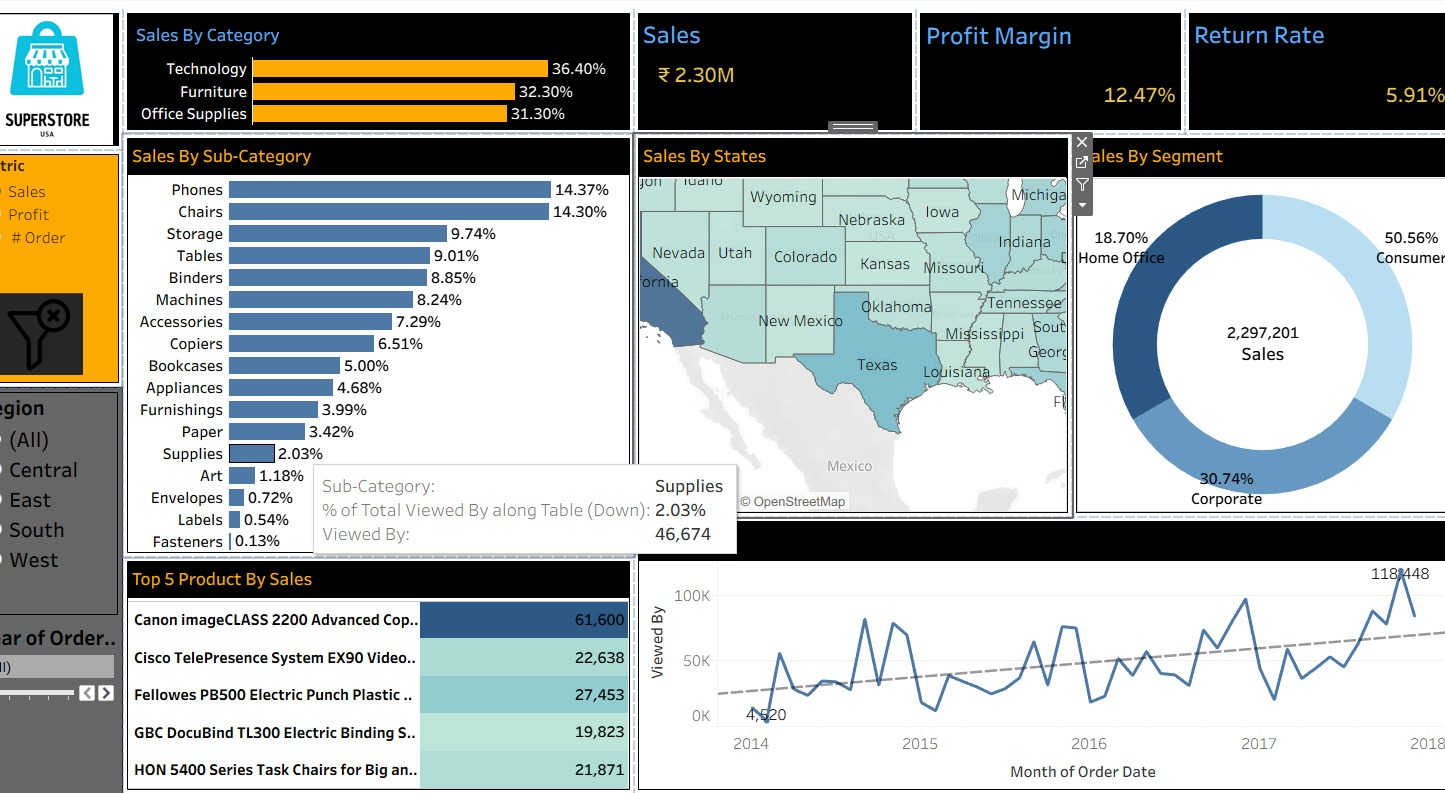

This screenshot's page, from the dashboard's own definition file:
{"tool":"tableau","page":{"name":"Dashboard 1","canvas":[1000,1000],"units":"permille","ordinal":0},"visuals":[{"type":"image","param":"Image/Screenshot 2025-10-11 184846.png","box":[4.8,10,90.6,176]},{"type":"worksheet","title":"(Category)","mark":"Automatic","rows":["Category"],"cols":["Calculation_412923853747302403"],"box":[95.4,10,308.2,156.1]},{"type":"worksheet","title":"SPERSTORE(Metric)","mark":"Automatic","box":[403.7,10,170.1,156.1]},{"type":"worksheet","title":"(Profit Margin)","mark":"Automatic","box":[573.8,10,162.4,156.1]},{"type":"worksheet","title":"(Return Rate)","mark":"Automatic","box":[736.2,10,162.4,156.1]},{"type":"legend","title":"(Segment)","param":"[federated.1xgyz0s0jadrhu13gu8tb0y8h5am].[none:Segment:nk]","box":[898.6,10,96.6,112.4]},{"type":"worksheet","title":"(Sub-Category) ","mark":"Automatic","rows":["Sub-Category"],"cols":["Calculation_412923853747302403"],"box":[95.4,166,308.2,528.1]},{"type":"worksheet","title":"(Map)","mark":"Multipolygon","box":[403.7,166,264.2,478.2]},{"type":"worksheet","title":"(Segment)","mark":"Pie","rows":["Calculation_412923853765455888","Calculation_412923853765468178"],"box":[667.9,166,230.8,478.2]},{"type":"parameter","param":"[Parameters].[Parameter 2]","box":[4.8,186,90.6,295.9]},{"type":"dashboard-object","box":[6,364.5,79.1,102.4]},{"type":"filter","title":"SPERSTORE(Metric)","param":"[federated.1xgyz0s0jadrhu13gu8tb0y8h5am].[none:Region:nk]","box":[5.4,483.2,89.4,288.4]},{"type":"worksheet","title":"(Trend)","mark":"Automatic","rows":["Calculation_412923853747302403"],"cols":["Order Date"],"box":[403.7,644.2,494.9,345.8]},{"type":"worksheet","title":"( Product )","mark":"Square","rows":["Product Name"],"box":[95.4,694.1,308.2,295.9]},{"type":"filter","title":"SPERSTORE(Metric)","param":"[federated.1xgyz0s0jadrhu13gu8tb0y8h5am].[yr:Order Date:ok]","box":[5.4,771.5,89.4,118.6]}]}

Visuals, with their boxes on the dashboard's canvas, which has no fixed pixel size, in thousandths of its width and height (x1, y1, x2, y2). These are canvas units, not pixel positions in the 1445x793 screenshot, which may show the page scaled, cropped or inside an application window:
image: {"left": 5, "top": 10, "right": 95, "bottom": 186}
"(Category)" worksheet: {"left": 95, "top": 10, "right": 404, "bottom": 166}
"SPERSTORE(Metric)" worksheet: {"left": 404, "top": 10, "right": 574, "bottom": 166}
"(Profit Margin)" worksheet: {"left": 574, "top": 10, "right": 736, "bottom": 166}
"(Return Rate)" worksheet: {"left": 736, "top": 10, "right": 899, "bottom": 166}
"(Segment)" legend: {"left": 899, "top": 10, "right": 995, "bottom": 122}
"(Sub-Category) " worksheet: {"left": 95, "top": 166, "right": 404, "bottom": 694}
"(Map)" worksheet (Multipolygon marks): {"left": 404, "top": 166, "right": 668, "bottom": 644}
"(Segment)" worksheet (Pie marks): {"left": 668, "top": 166, "right": 899, "bottom": 644}
parameter: {"left": 5, "top": 186, "right": 95, "bottom": 482}
dashboard-object: {"left": 6, "top": 364, "right": 85, "bottom": 467}
"SPERSTORE(Metric)" filter: {"left": 5, "top": 483, "right": 95, "bottom": 772}
"(Trend)" worksheet: {"left": 404, "top": 644, "right": 899, "bottom": 990}
"( Product )" worksheet (Square marks): {"left": 95, "top": 694, "right": 404, "bottom": 990}
"SPERSTORE(Metric)" filter: {"left": 5, "top": 772, "right": 95, "bottom": 890}
